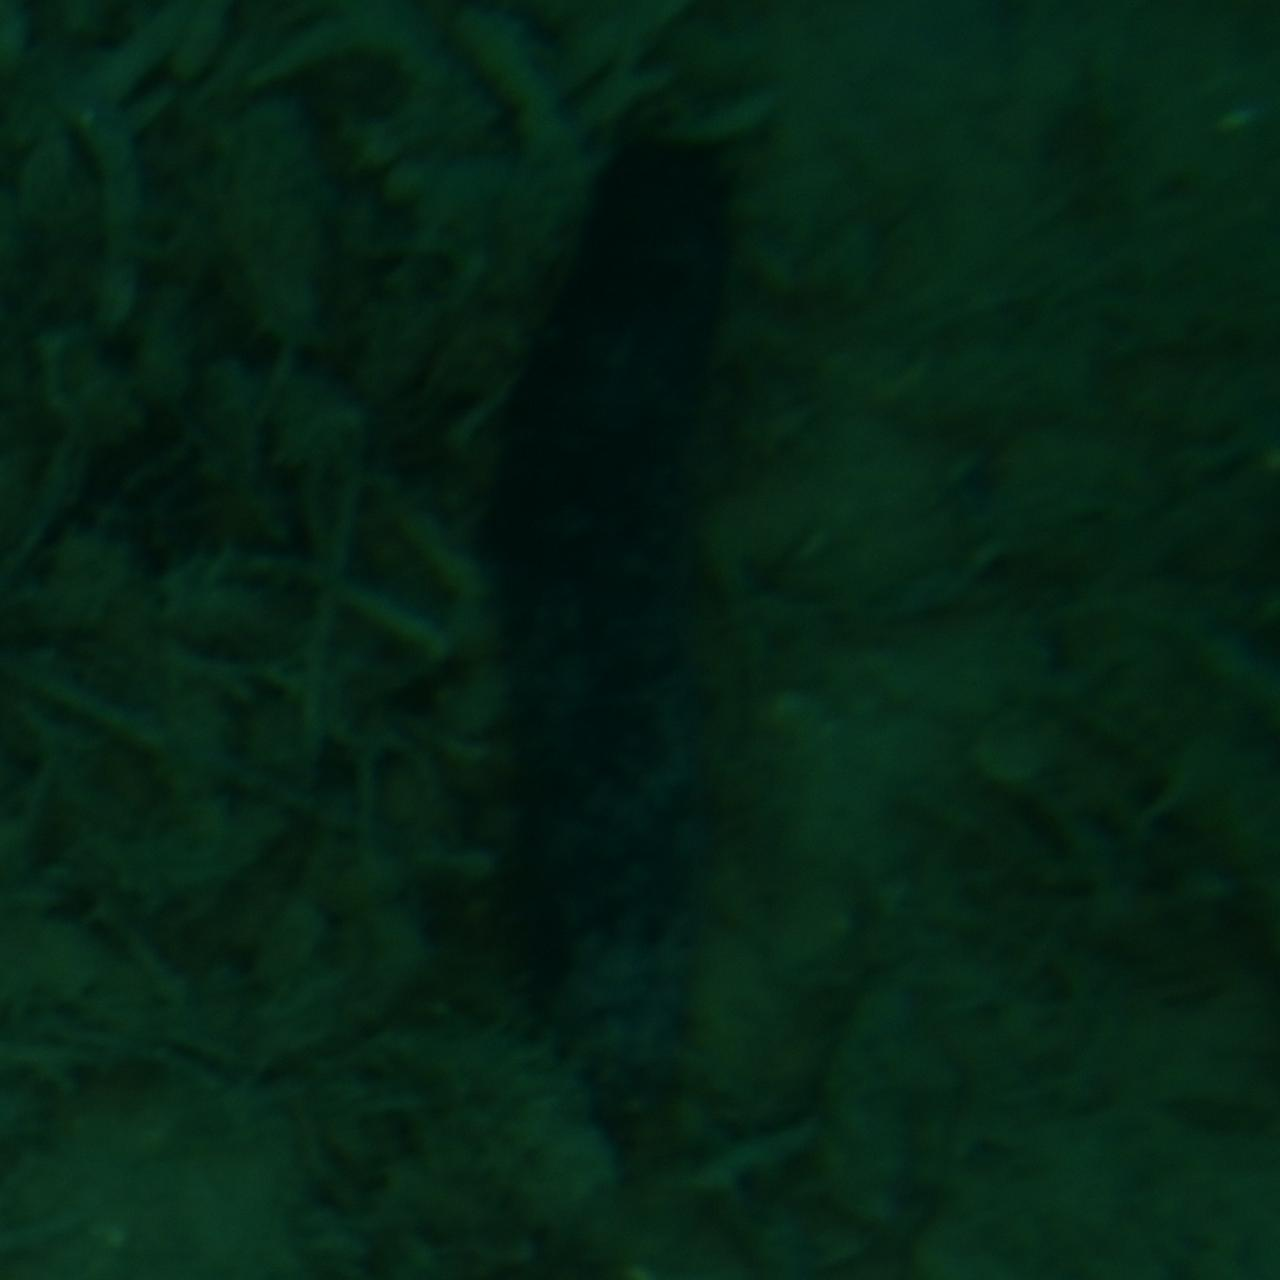Holothuria tubulosa: (492, 92, 788, 1188)
